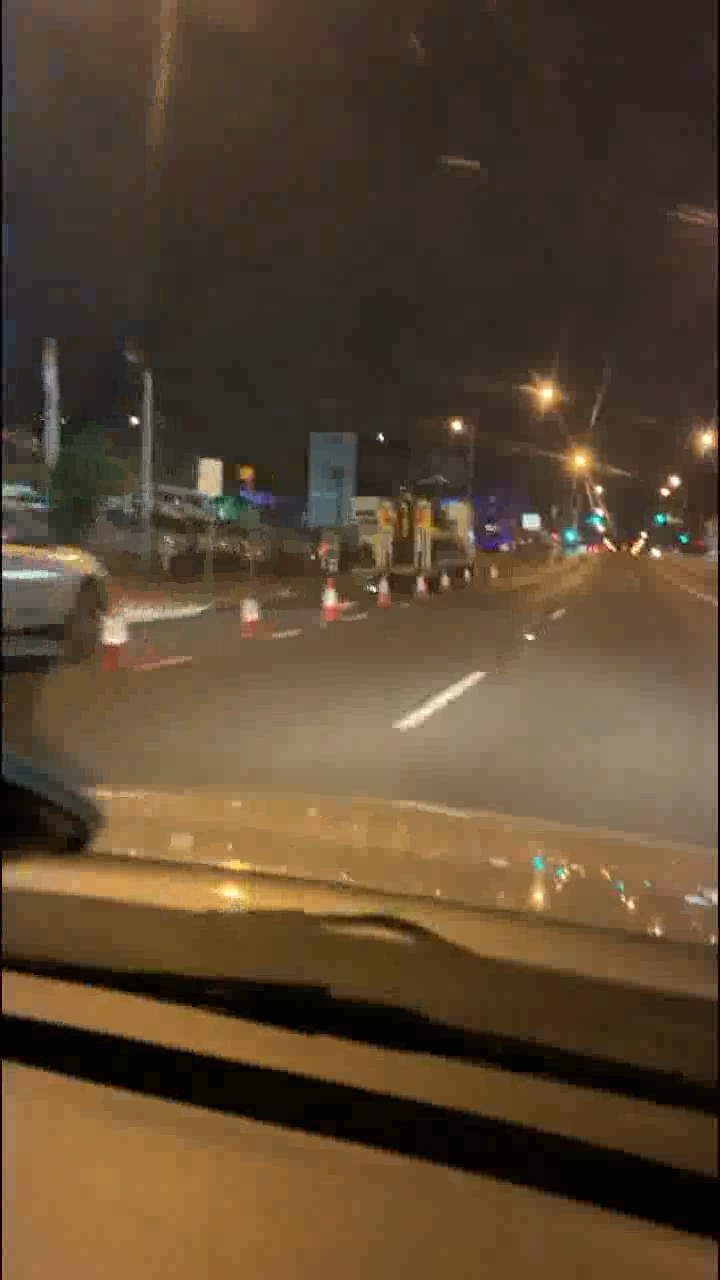road cone: (233, 587, 266, 645), (311, 578, 344, 636), (369, 568, 402, 618)
truck: (357, 493, 482, 573)
